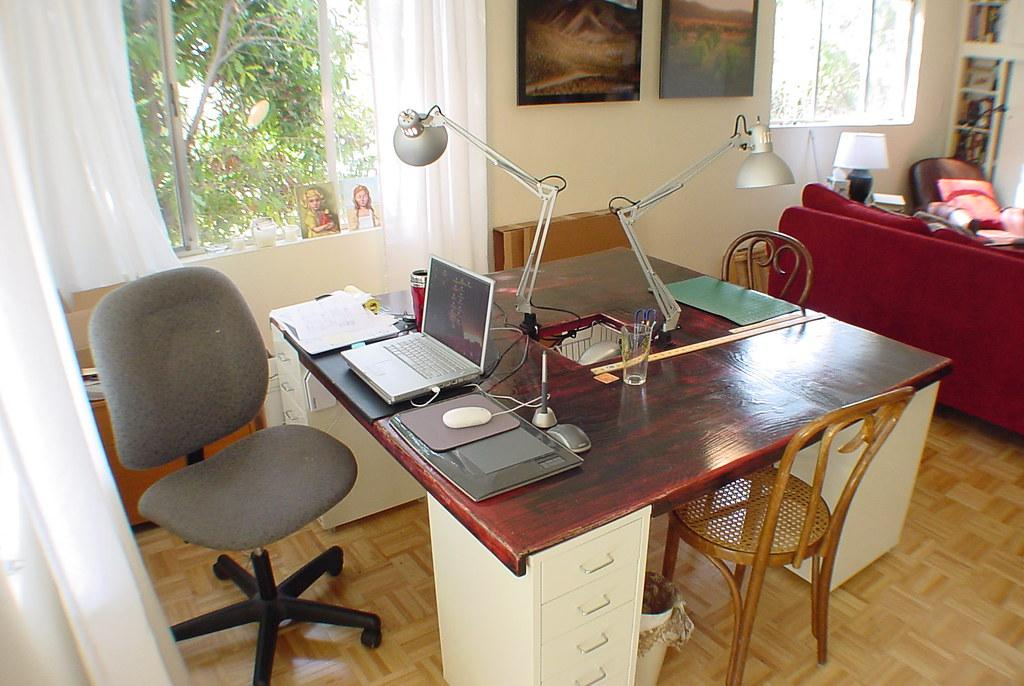table: (261, 235, 964, 686)
